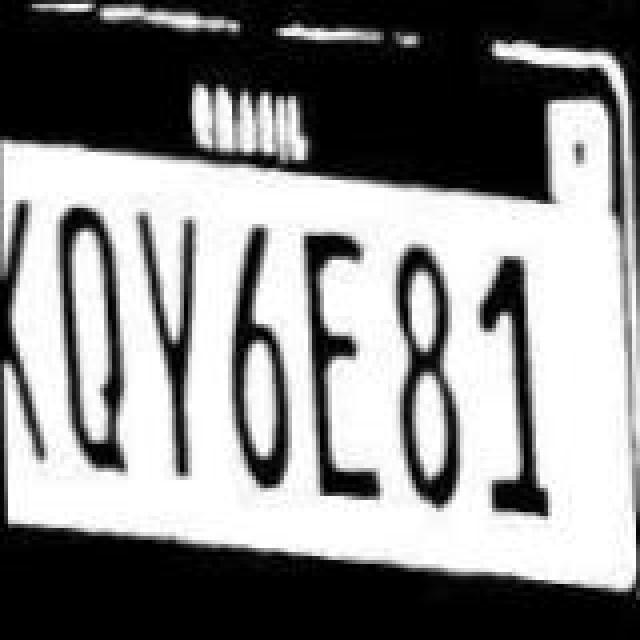1: (478, 226, 554, 538)
6: (218, 224, 298, 496)
8: (384, 246, 472, 510)
E: (296, 224, 380, 504)
Q: (56, 198, 132, 478)
Y: (134, 186, 206, 510)
